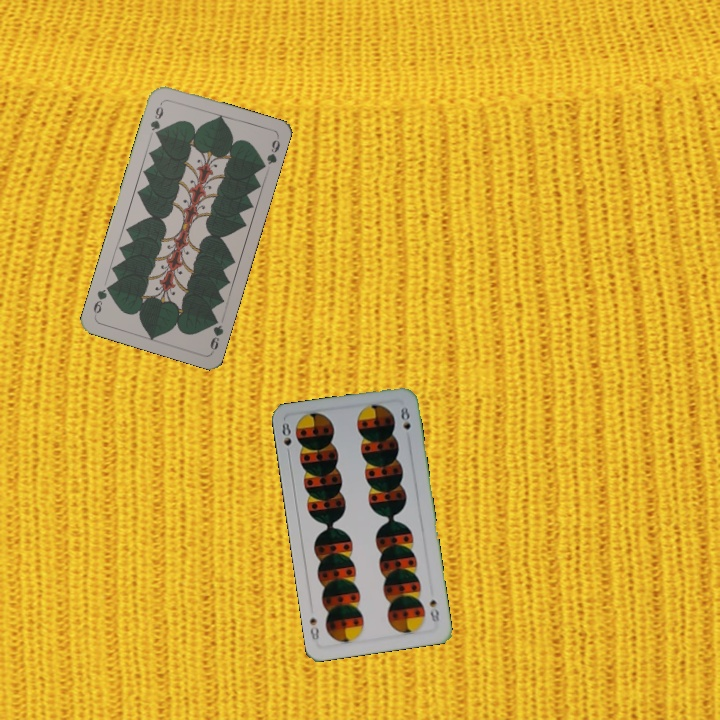G9: (206, 312, 226, 354), (146, 99, 166, 139)
S8: (278, 418, 294, 459), (426, 596, 442, 628)
